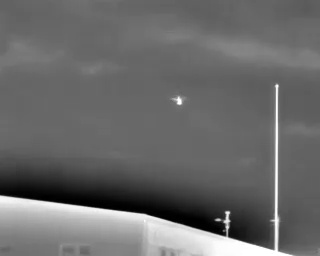HELICOPTER: (168, 92, 190, 109)
